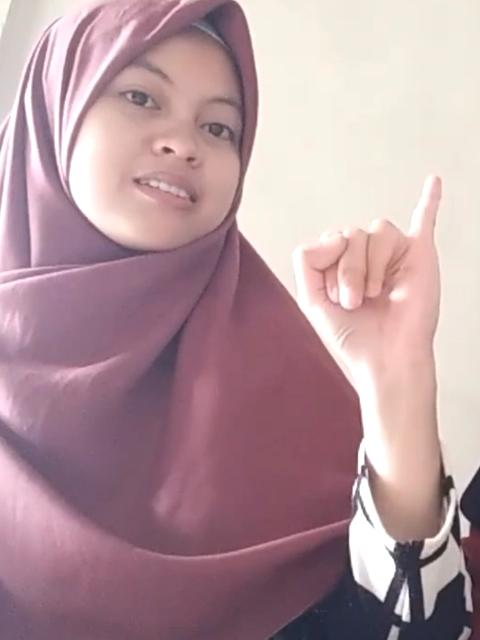I: (298, 173, 446, 379)
